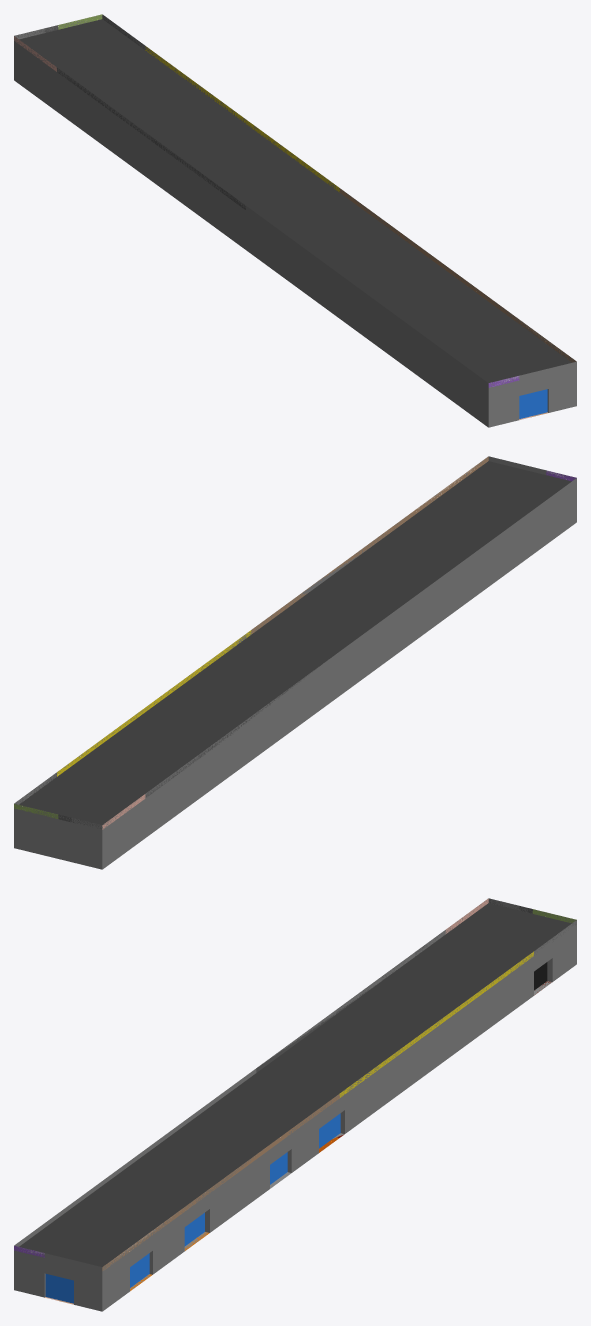
The model's file is vismijn1_no_camera_actuallythistime(1).fbx.
The picture shows the model from 3 angles, top to bottom: view 1: azimuth 30°, elevation 25°; view 2: azimuth 150°, elevation 25°; view 3: azimuth 330°, elevation 25°; orthographic projection.
Parts seen in each view (by area): view 1: Cube; view 2: Cube; view 3: Cube.
Part boxes in pixels (x1,y1,x2,y2): Cube: (14, 14, 576, 427); Cube: (14, 456, 576, 869); Cube: (14, 898, 576, 1311).
Size of the model in its own units: 416 by 200 by 3863.
